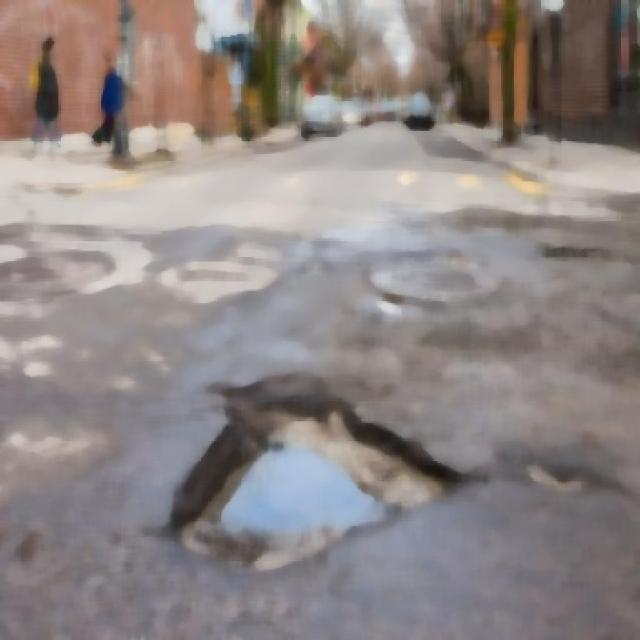Pothole: (167, 373, 435, 584)
